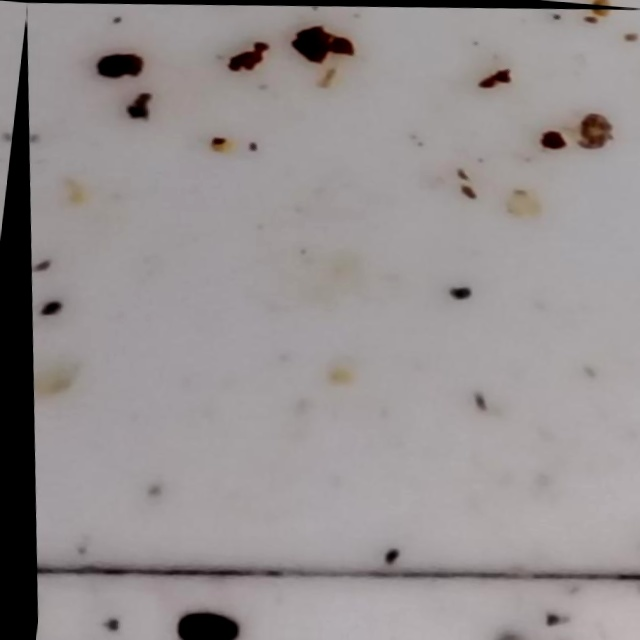varroa: (165, 606, 229, 630)
